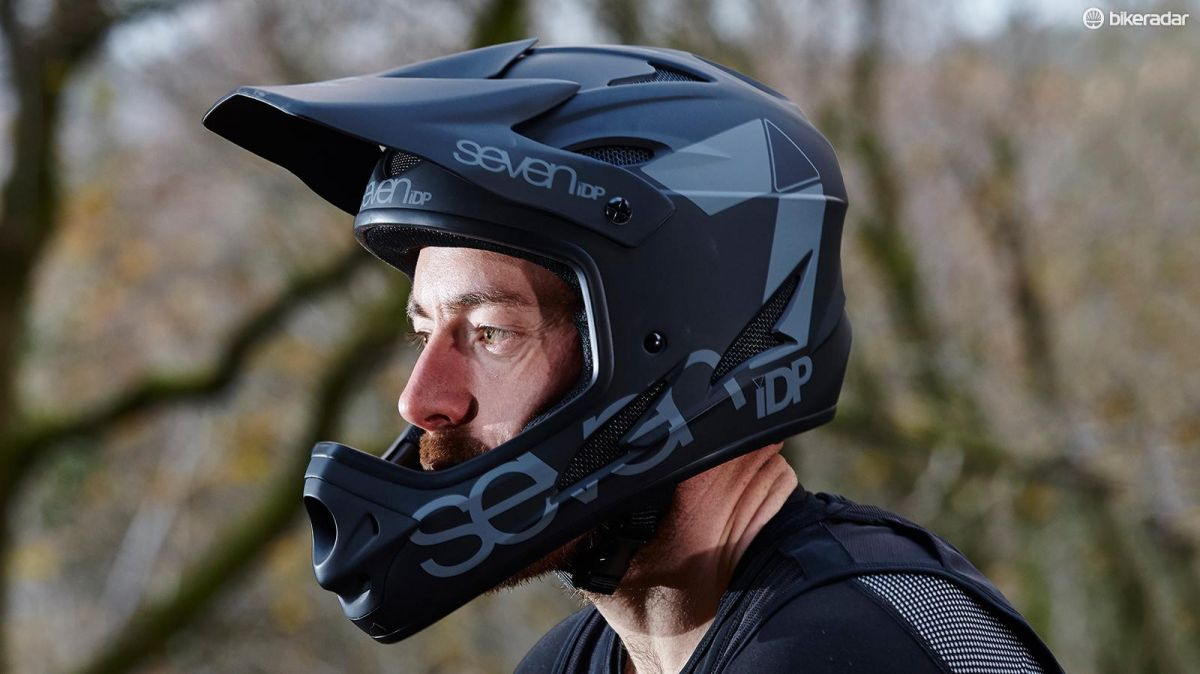with_helmet: (195, 34, 862, 649)
